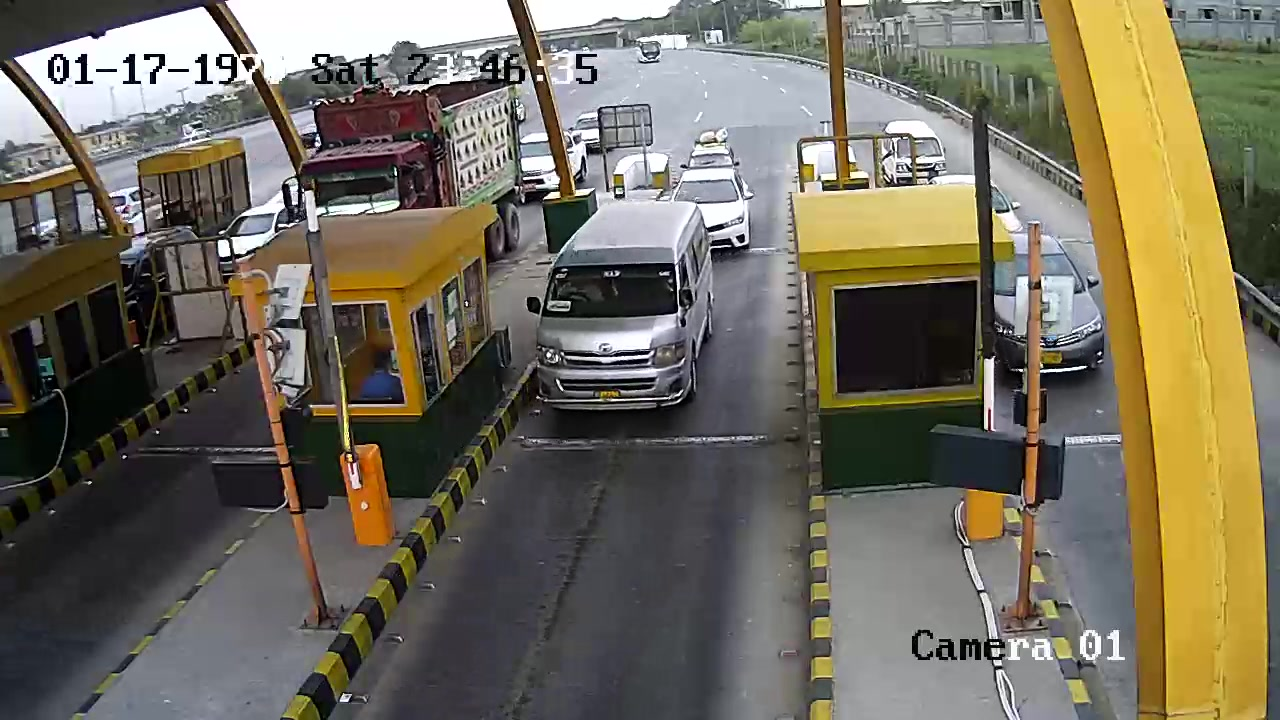F3: (520, 199, 716, 423)
